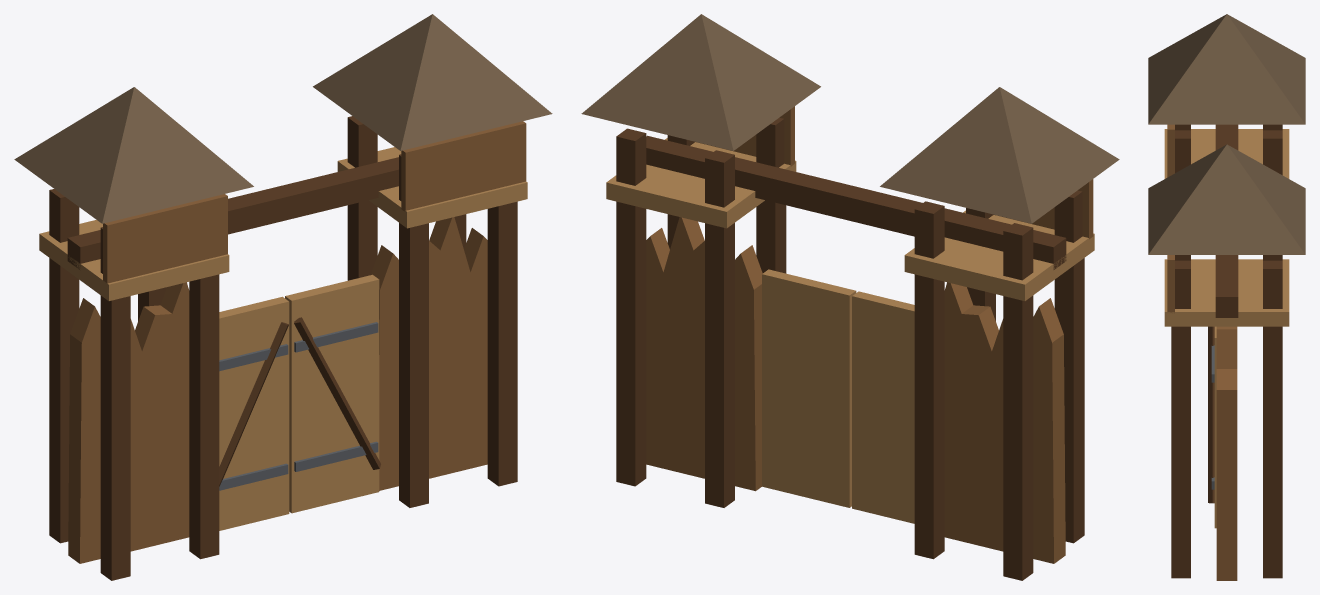
File: siege_palisade_gate.glb
The picture shows the model from 3 angles, left to right: view 1: azimuth 30°, elevation 25°; view 2: azimuth 150°, elevation 25°; view 3: azimuth 270°, elevation 25°; orthographic projection. The views are drawn at different scales.
Visible parts, largest first — view 1: siege_palisade_gate; view 2: siege_palisade_gate; view 3: siege_palisade_gate.
Boxes of the visible parts, x1=… form: siege_palisade_gate: x1=14, y1=14, x2=552, y2=580; siege_palisade_gate: x1=581, y1=14, x2=1119, y2=580; siege_palisade_gate: x1=1148, y1=14, x2=1305, y2=580.
Bounding box in the file's own units: 7.1 × 6.9 × 2.4.
